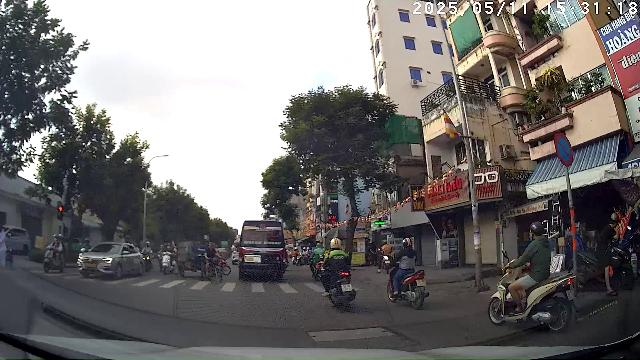131a-cam-do-xe: (554, 132, 574, 167)
